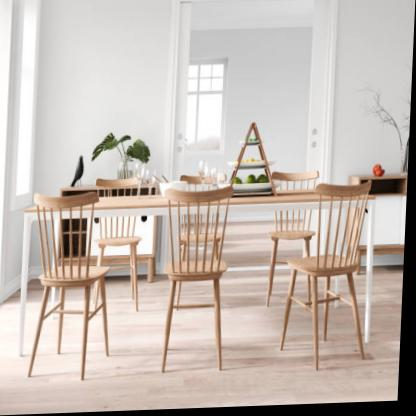Window: (188, 61, 229, 156)
